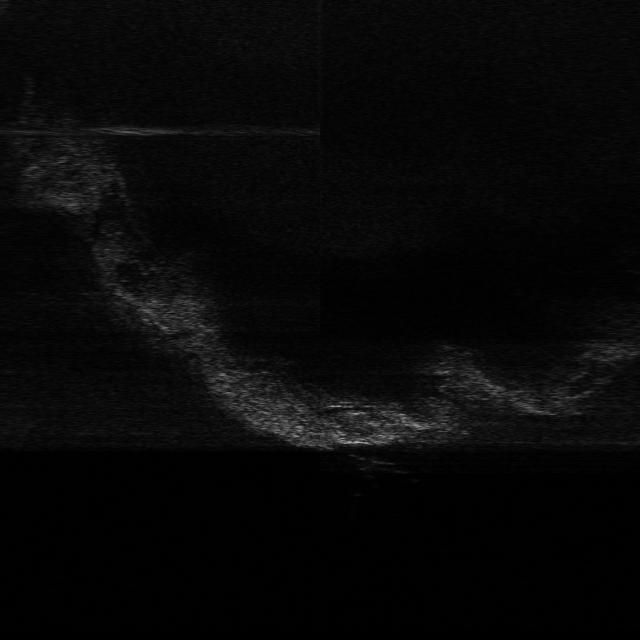plane: (334, 448, 414, 475)
